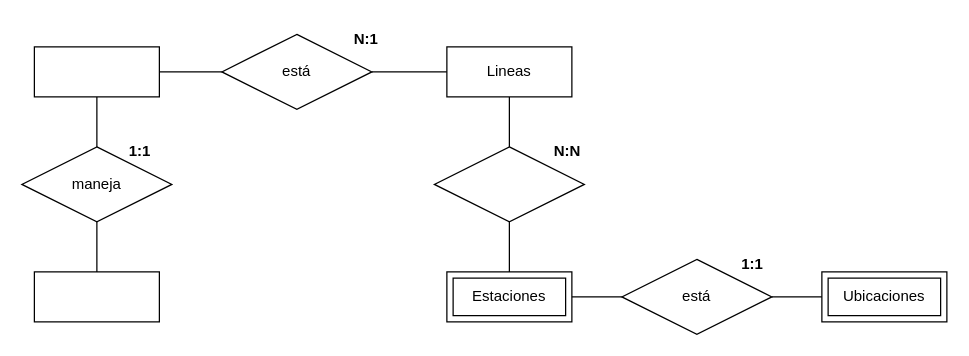
This 969x356 diagram has some shape labels left out. Here are the shapes that lost their labels. From the top down, the box of each, then its label:
(33, 46, 159, 97): Trenes
(433, 146, 584, 222): tiene
(33, 271, 159, 322): Conductores
